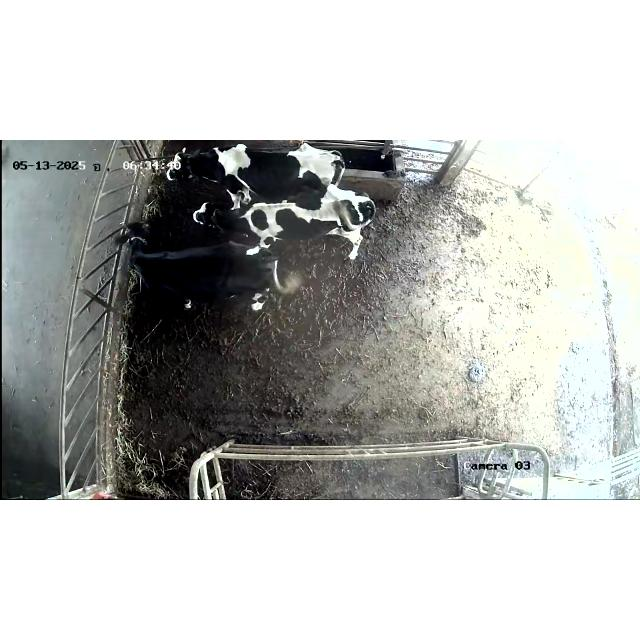stand: (115, 222, 301, 311), (193, 184, 376, 260), (166, 143, 345, 209)
